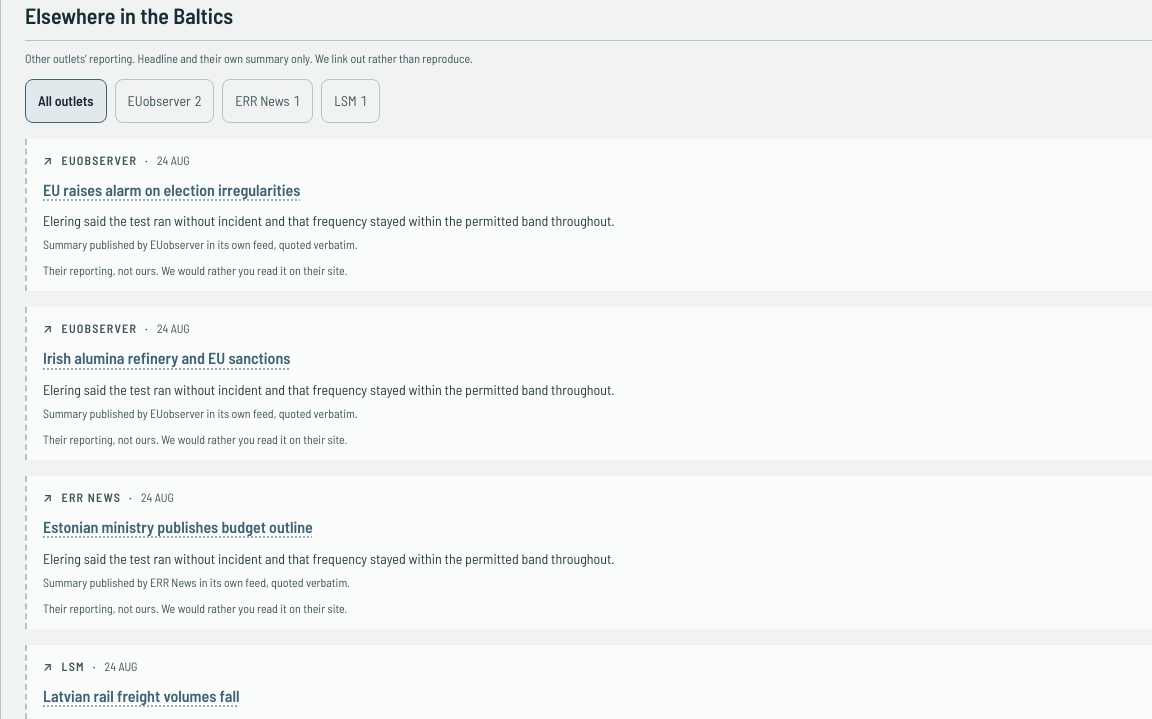
Scenario: Elsewhere rail: outlet filter › restores every outlet when the reader clears the filter
The width and height of the screenshot is (1152, 719).
Step 1. Click the button with aria-label "LSM, 1 story" → click(351, 101), box [321,79,380,123]
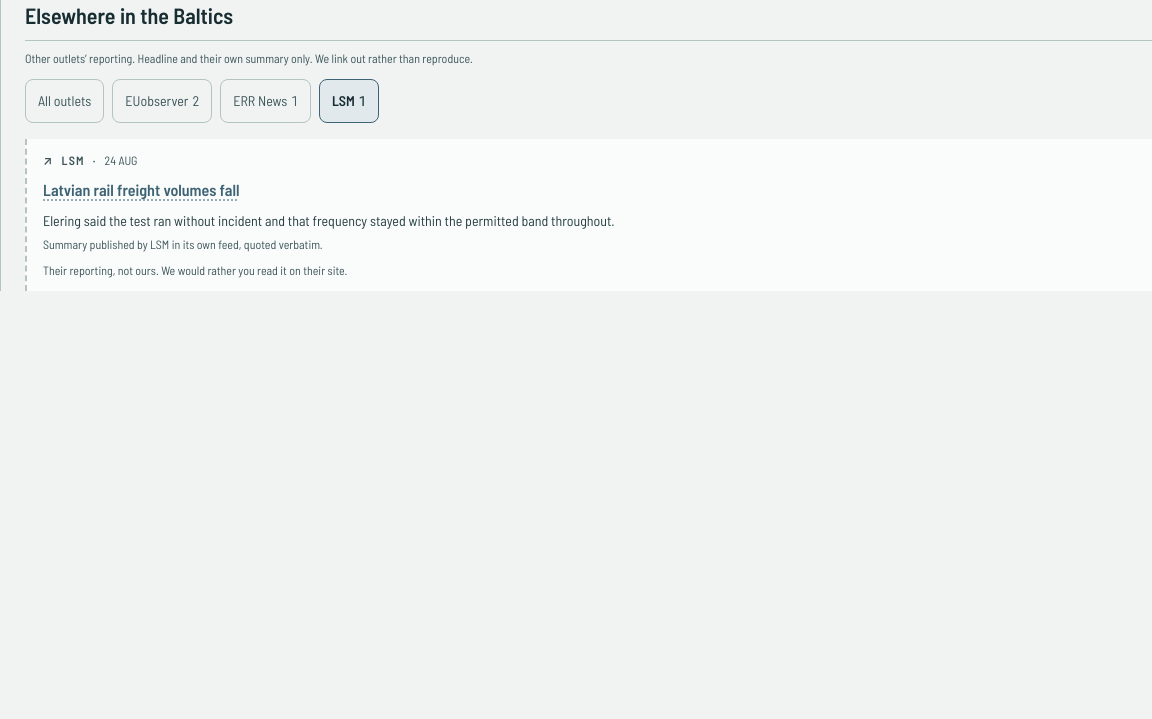
expect the link "Estonian ministry publishes budget outline" is gone: met
Step 2. Click the button "All outlets" → click(65, 101), box [25,79,104,123]
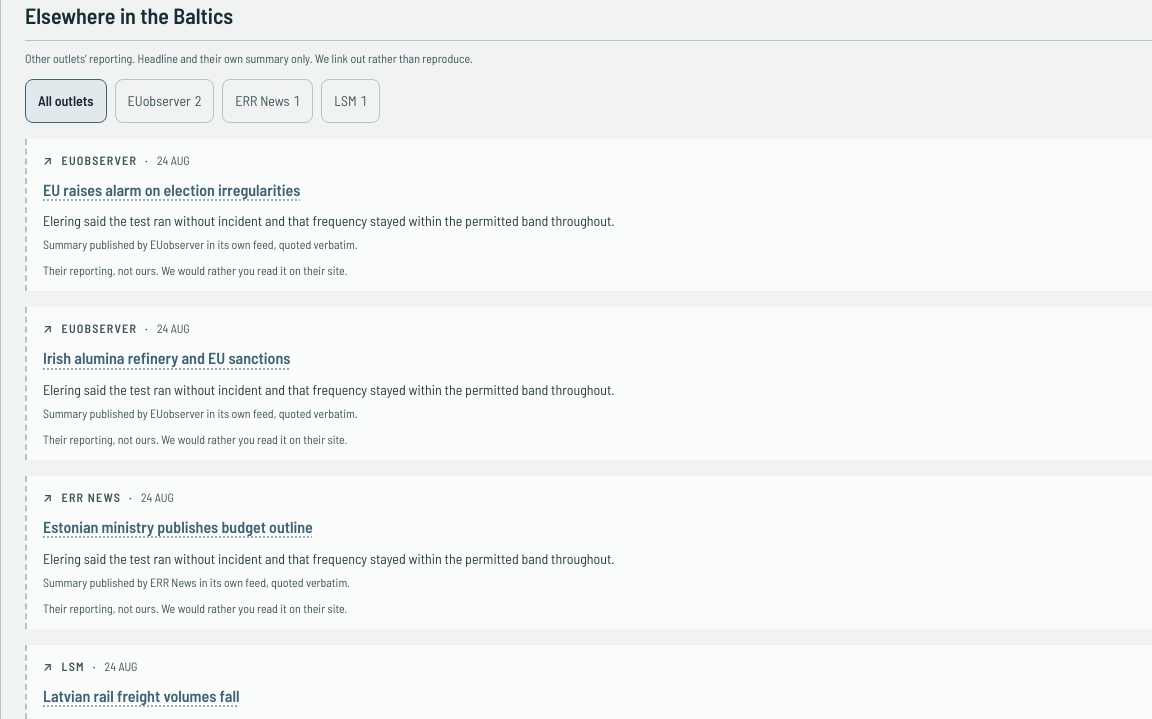
expect the link "Estonian ministry publishes budget outline" is shown: met, box [43,517,313,536]
